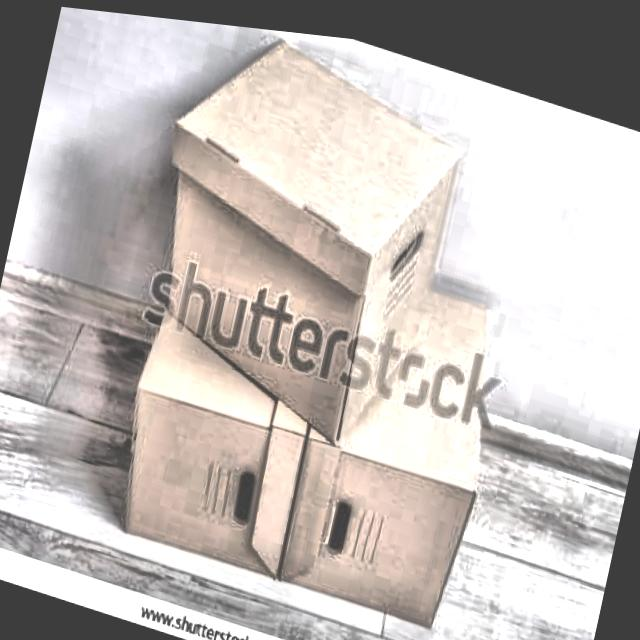Cardbox: (130, 11, 460, 446), (272, 211, 526, 637), (104, 213, 344, 598)
